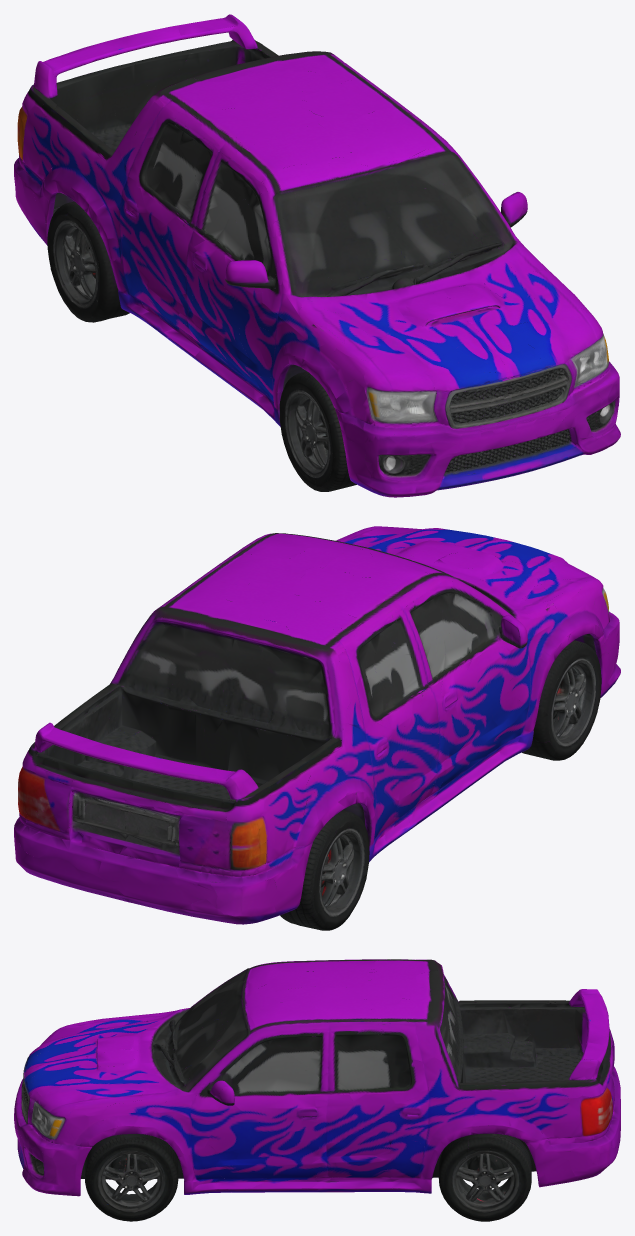
Rendered from nightshade.glb.
The picture shows the model from 3 angles, top to bottom: view 1: azimuth 30°, elevation 25°; view 2: azimuth 150°, elevation 25°; view 3: azimuth 270°, elevation 25°; orthographic projection. The views are drawn at different scales.
Parts seen in each view (by area): view 1: nightshade; view 2: nightshade; view 3: nightshade.
Part boxes in pixels (x1,y1,x2,y2): nightshade: (14,14,620,497); nightshade: (14,526,620,930); nightshade: (14,959,620,1221).
Bounding box in the file's own units: 2.3 × 1.81 × 5.3.
Materials: 1 (1 with a texture image).
